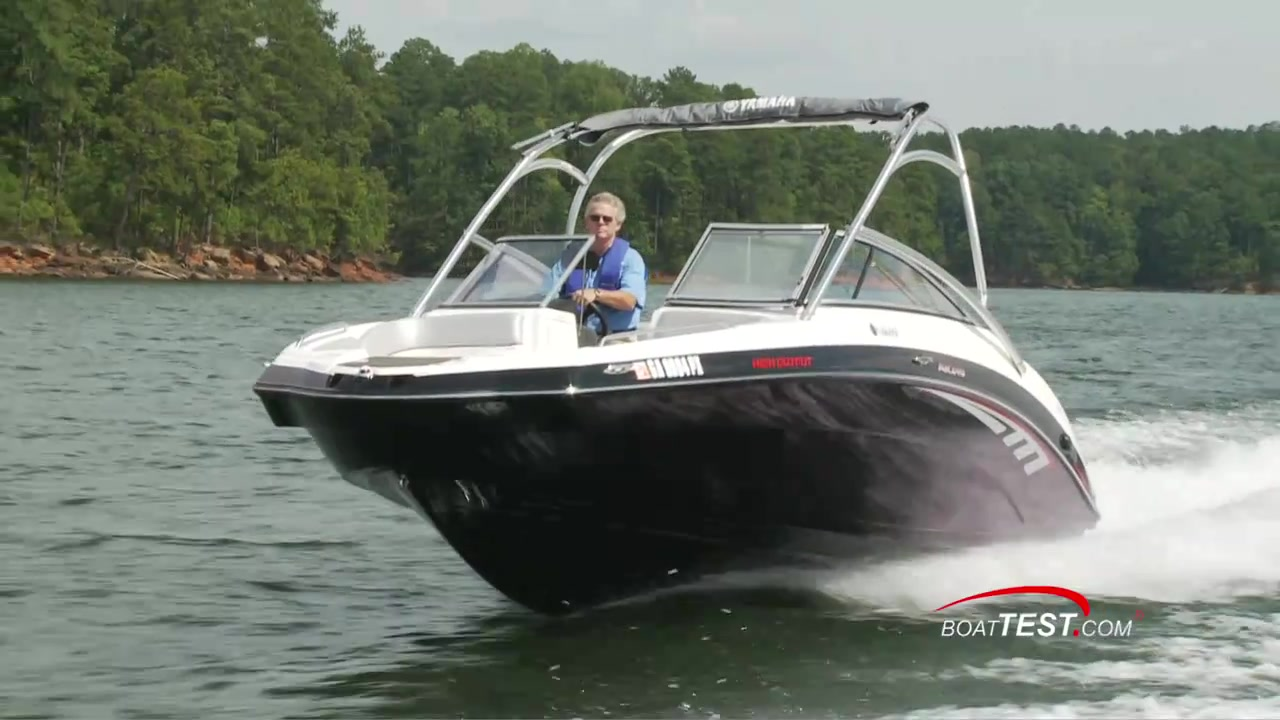boat: (253, 91, 1105, 617)
